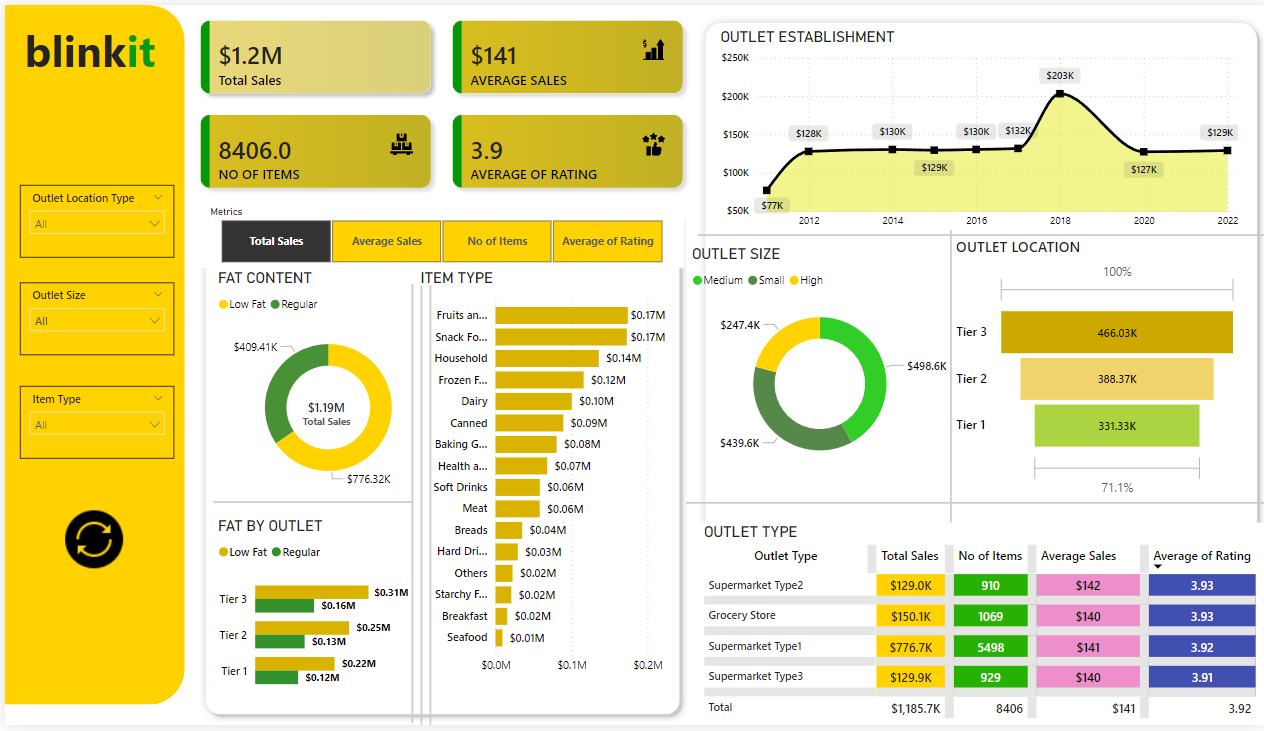

What the dashboard file says about the page in this screenshot:
{"tool":"powerbi","page":{"name":"Page 1","canvas":[1400,800],"ordinal":0},"visuals":[{"type":"shape","box":[0,0,199.7,777.6],"z":0},{"type":"textbox","box":[15.9,12.4,167.9,83.1],"z":1000},{"type":"cardVisual","fields":{"Data":["BlinkIT Grocery Data.Total Sales","BlinkIT Grocery Data.Average sales","BlinkIT Grocery Data.No of Items","BlinkIT Grocery Data.Average of Rating"]},"box":[199.7,0,570.9,220],"z":2000},{"type":"shape","box":[215.6,219.2,542.6,577.9],"z":3000},{"type":"donutChart","title":"FAT CONTENT","fields":{"Y":["BlinkIT Grocery Data.Average of Rating"],"Category":["BlinkIT Grocery Data.Item Fat Content"]},"box":[231.5,293.4,254.5,259.8],"z":4000},{"type":"slicer","fields":{"Values":["Metrics.Metrics"]},"box":[215.6,219.2,539,74.2],"z":5000},{"type":"cardVisual","fields":{"Data":["BlinkIT Grocery Data.Average of Rating"]},"box":[305.8,399.4,104.3,107.8],"z":6000},{"type":"clusteredBarChart","title":"FAT BY OUTLET","fields":{"Y":["BlinkIT Grocery Data.Average of Rating"],"Category":["BlinkIT Grocery Data.Outlet Location Type"],"Series":["BlinkIT Grocery Data.Item Fat Content"]},"box":[231.5,569.1,220.9,208.6],"z":7000},{"type":"shape","box":[231.5,526.7,220.9,51.2],"z":8000},{"type":"shape","box":[318.1,309.3,268.6,487.8],"z":9000},{"type":"barChart","title":"ITEM TYPE","fields":{"Y":["BlinkIT Grocery Data.Average of Rating"],"Category":["BlinkIT Grocery Data.Item Type"]},"box":[456,293.4,298.7,457.7],"z":10000},{"type":"shape","box":[770.6,12.4,629.2,784.7],"z":11000},{"type":"lineChart","title":"OUTLET ESTABLISHMENT","fields":{"Y":["BlinkIT Grocery Data.Total Sales"],"Category":["BlinkIT Grocery Data.Outlet Establishment Year"]},"box":[790,24.7,585,231.5],"z":12000},{"type":"shape","box":[770.6,229.8,629.2,51.2],"z":13000},{"type":"donutChart","title":"OUTLET SIZE","fields":{"Y":["BlinkIT Grocery Data.Average of Rating"],"Category":["BlinkIT Grocery Data.Outlet Size"]},"box":[758.6,266.6,293.5,260.4],"z":14000},{"type":"shape","box":[917.2,249.2,268.6,514.3],"z":15000},{"type":"funnel","title":"OUTLET LOCATION","fields":{"Y":["Sum(BlinkIT Grocery Data.Sales)"],"Category":["BlinkIT Grocery Data.Outlet Location Type"]},"box":[1052.1,256.3,322.4,295.6],"z":16000},{"type":"shape","box":[756.5,529.1,642.8,49.6],"z":17000},{"type":"pivotTable","title":"OUTLET TYPE","fields":{"Values":["BlinkIT Grocery Data.Total Sales","BlinkIT Grocery Data.No of Items","BlinkIT Grocery Data.Average Sales","BlinkIT Grocery Data.Average of Rating"],"Rows":["BlinkIT Grocery Data.Outlet Type"]},"box":[771,574.6,628.4,225.3],"z":18000},{"type":"slicer","fields":{"Values":["BlinkIT Grocery Data.Outlet Location Type"]},"box":[16.5,200.5,171.6,80.6],"z":19000},{"type":"shape","box":[328.1,312.2,268.6,487.8],"z":20000},{"type":"shape","box":[338.1,312.2,268.6,487.8],"z":21000},{"type":"slicer","fields":{"Values":["BlinkIT Grocery Data.Item Type"]},"box":[16.5,423.7,171.6,80.6],"z":22000},{"type":"slicer","fields":{"Values":["BlinkIT Grocery Data.Outlet Size"]},"box":[16.5,308,171.6,80.6],"z":23000},{"type":"image","box":[56.9,554,84.2,80],"z":23001}]}

Visuals, with their boxes in screenshot pixels (x1, y1, x2, y2), scaled from the page's 1400x800 canvas onto the 1264x731 screenshot:
shape: {"left": 0, "top": 0, "right": 180, "bottom": 711}
textbox: {"left": 14, "top": 11, "right": 166, "bottom": 87}
cardVisual - BlinkIT Grocery Data.Total Sales x BlinkIT Grocery Data.Average sales: {"left": 180, "top": 0, "right": 696, "bottom": 201}
shape: {"left": 195, "top": 200, "right": 685, "bottom": 728}
"FAT CONTENT" donutChart: {"left": 209, "top": 268, "right": 439, "bottom": 505}
slicer - Metrics.Metrics: {"left": 195, "top": 200, "right": 681, "bottom": 268}
cardVisual - BlinkIT Grocery Data.Average of Rating: {"left": 276, "top": 365, "right": 370, "bottom": 463}
"FAT BY OUTLET" clusteredBarChart: {"left": 209, "top": 520, "right": 408, "bottom": 711}
shape: {"left": 209, "top": 481, "right": 408, "bottom": 528}
shape: {"left": 287, "top": 283, "right": 530, "bottom": 728}
"ITEM TYPE" barChart: {"left": 412, "top": 268, "right": 681, "bottom": 686}
shape: {"left": 696, "top": 11, "right": 1263, "bottom": 728}
"OUTLET ESTABLISHMENT" lineChart: {"left": 713, "top": 23, "right": 1241, "bottom": 234}
shape: {"left": 696, "top": 210, "right": 1263, "bottom": 257}
"OUTLET SIZE" donutChart: {"left": 685, "top": 244, "right": 950, "bottom": 482}
shape: {"left": 828, "top": 228, "right": 1071, "bottom": 698}
"OUTLET LOCATION" funnel: {"left": 950, "top": 234, "right": 1241, "bottom": 504}
shape: {"left": 683, "top": 483, "right": 1263, "bottom": 529}
"OUTLET TYPE" pivotTable: {"left": 696, "top": 525, "right": 1263, "bottom": 730}
slicer - BlinkIT Grocery Data.Outlet Location Type: {"left": 15, "top": 183, "right": 170, "bottom": 257}
shape: {"left": 296, "top": 285, "right": 539, "bottom": 730}
shape: {"left": 305, "top": 285, "right": 548, "bottom": 730}
slicer - BlinkIT Grocery Data.Item Type: {"left": 15, "top": 387, "right": 170, "bottom": 461}
slicer - BlinkIT Grocery Data.Outlet Size: {"left": 15, "top": 281, "right": 170, "bottom": 355}
image: {"left": 51, "top": 506, "right": 127, "bottom": 579}
